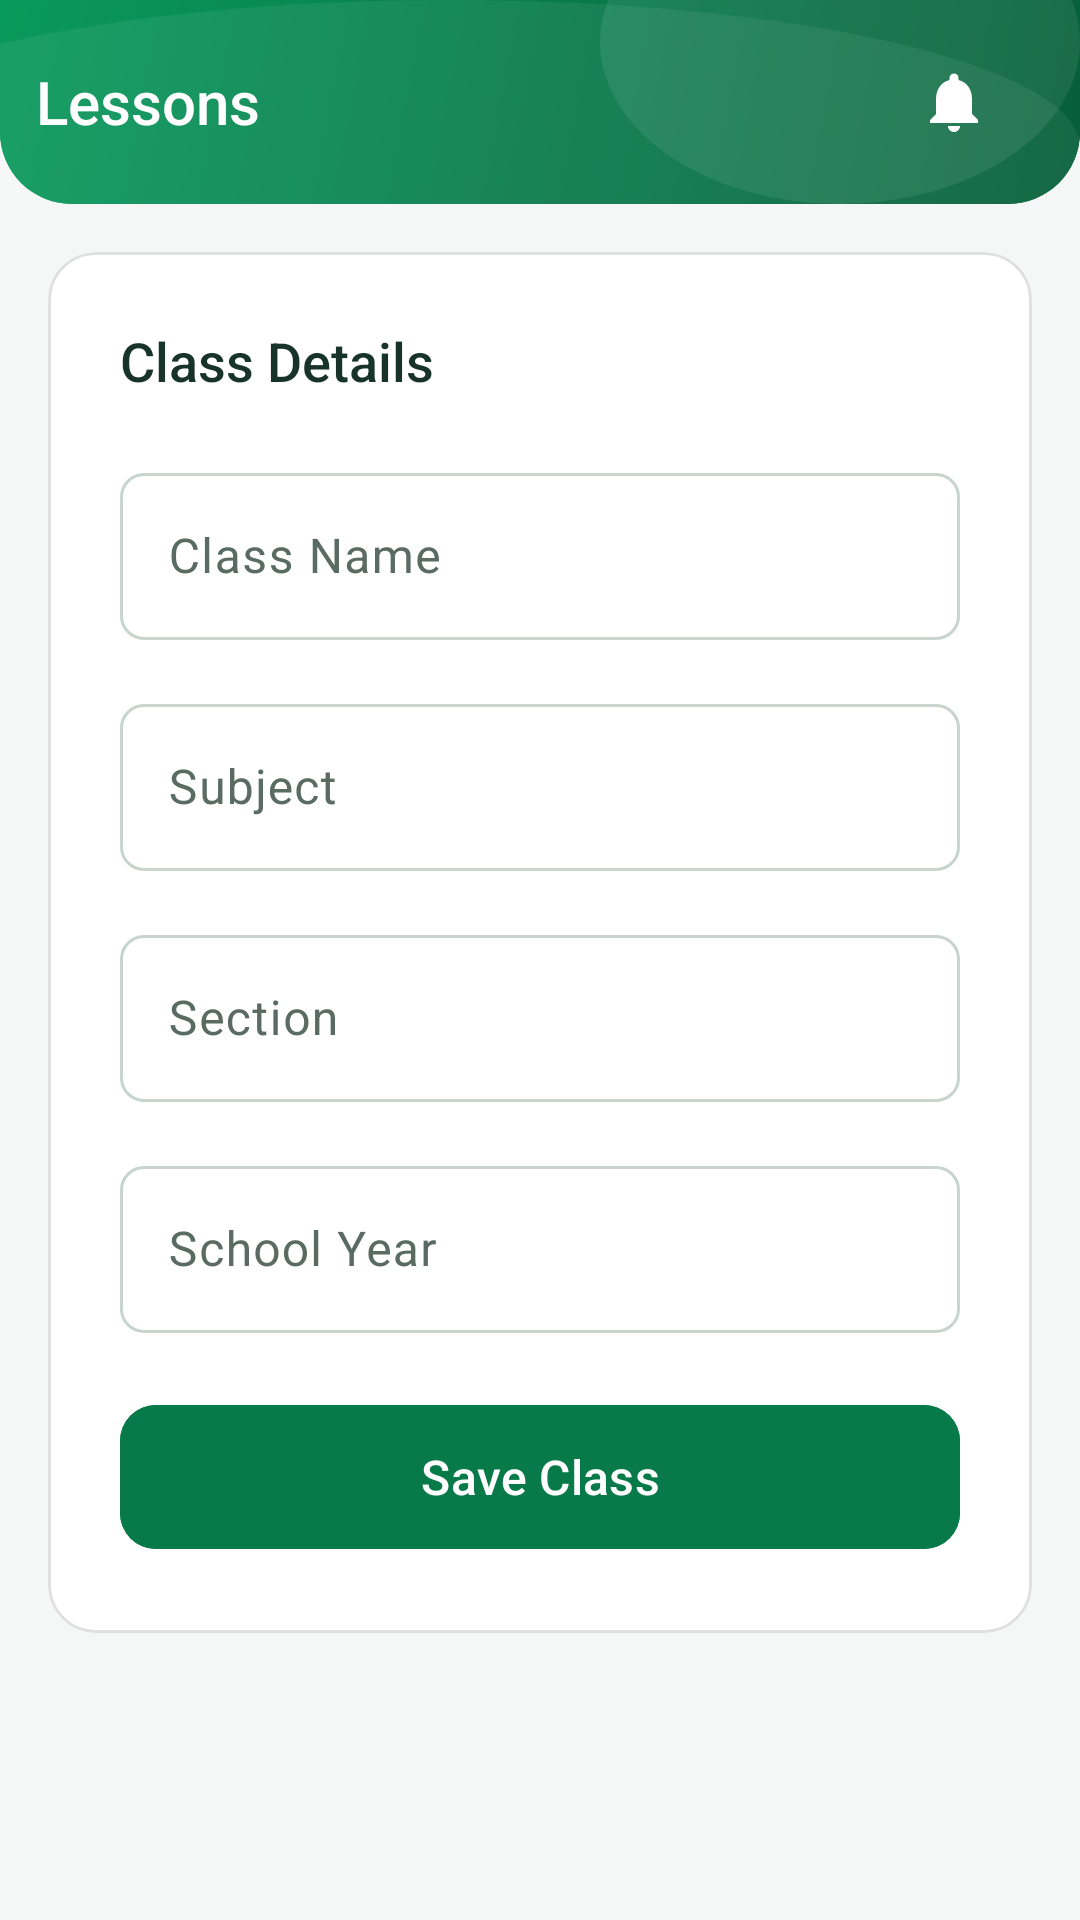

Screen size 1080 x 1920. Icon name, then its box in pixels as [x1, y1, x2, y2]:
Notifications: [930, 73, 978, 132]
